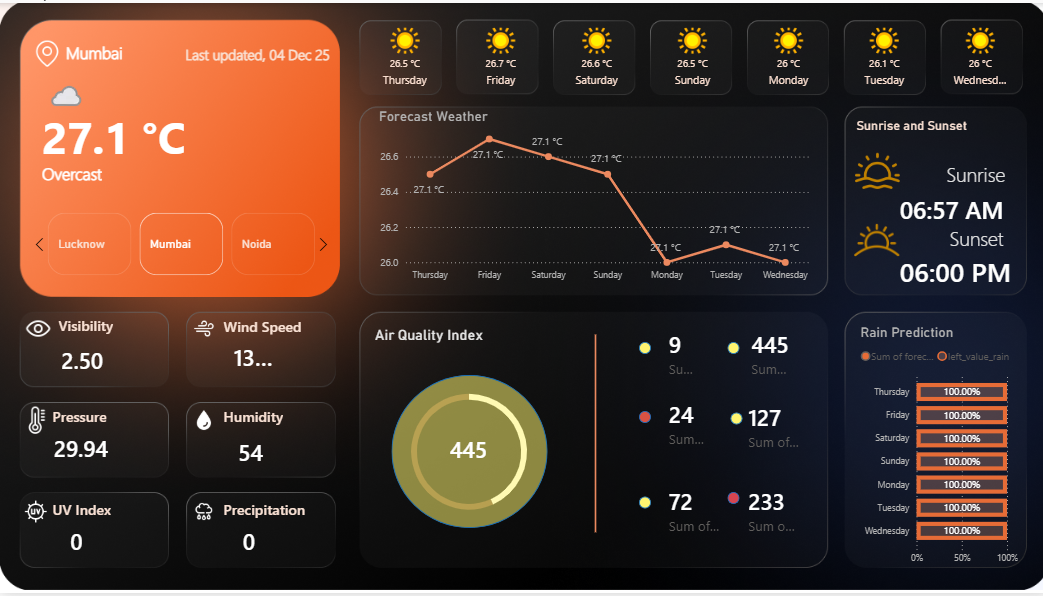

Layout of this report page (visuals, bound fields, positions):
{"tool":"powerbi","page":{"name":"Page 1","canvas":[1280,720],"ordinal":0},"visuals":[{"type":"shape","box":[51,115.3,204.1,94.5],"z":0},{"type":"shape","box":[51,185.2,122.8,47.2],"z":1000},{"type":"shape","box":[81.3,35.9,122.8,47.2],"z":2000},{"type":"shape","box":[173.9,37.8,228.7,47.2],"z":3000},{"type":"image","box":[32.1,45.4,49.1,32.1],"z":4000},{"type":"cardVisual","fields":{"Data":["Min(current table.current.condition.icon)"]},"box":[49.1,75.6,62.4,77.5],"z":5000},{"type":"image","box":[28.6,378.6,35,36.6],"z":6000},{"type":"image","box":[25.4,493.1,38.2,33.4],"z":7000},{"type":"image","box":[28.6,602.8,28.6,36.6],"z":8000},{"type":"image","box":[237,493.1,25.4,33.4],"z":9000},{"type":"image","box":[237,602.8,25.4,36.6],"z":10000},{"type":"image","box":[237,378.6,25.4,36.6],"z":11000},{"type":"shape","box":[71.6,372.2,79.5,42.9],"z":12000},{"type":"shape","box":[273.6,596.5,114.5,42.9],"z":13000},{"type":"shape","box":[273.6,483.5,79.5,42.9],"z":14000},{"type":"shape","box":[63.6,483.5,79.5,42.9],"z":15000},{"type":"shape","box":[273.6,383.3,114.5,22.3],"z":16000},{"type":"shape","box":[63.6,596.5,79.5,42.9],"z":17000},{"type":"cardVisual","fields":{"Data":["Sum(current table.current.vis_km)"]},"box":[46.5,397.1,136.3,74.8],"z":18000},{"type":"cardVisual","fields":{"Data":["Sum(current table.current.humidity)"]},"box":[261.7,510.7,131.8,73.2],"z":19000},{"type":"cardVisual","fields":{"Data":["Sum(current table.current.pressure_in)"]},"box":[36.6,505.1,132.9,74.8],"z":20000},{"type":"cardVisual","fields":{"Data":["_measures.wind_speed"]},"box":[255.9,393.8,132.9,74.8],"z":21000},{"type":"cardVisual","fields":{"Data":["Sum(current table.current.uv)"]},"box":[57.3,618.7,103.4,74.8],"z":22000},{"type":"cardVisual","fields":{"Data":["Sum(current table.current.precip_in)"]},"box":[267.5,618.1,103,74.8],"z":23000},{"type":"advancedSlicerVisual","fields":{"Values":["forecast_day.day_name"]},"box":[435.3,23.3,820.8,104.7],"z":24000},{"type":"lineChart","title":"Forecast Weather","fields":{"Y":["Sum(forecast_day.forecast.forecastday.day.avgtemp_c)"],"Category":["forecast_day.day_name"]},"box":[457.7,128.3,538.2,220.3],"z":25000},{"type":"shape","box":[1045.1,128.1,210.5,43.9],"z":26000},{"type":"cardVisual","fields":{"Data":["Min(forecast_day.forecast.forecastday.astro.sunset)"]},"box":[1068.9,287.4,210.5,76.9],"z":27000},{"type":"cardVisual","fields":{"Data":["Min(forecast_day.forecast.forecastday.astro.sunrise)"]},"box":[1068.9,212.3,210.5,75],"z":28000},{"type":"shape","box":[1151.3,184.9,78.7,47.6],"z":29000},{"type":"shape","box":[1136.6,265.4,109.8,42.1],"z":30000},{"type":"image","box":[1001.2,252.6,137.3,73.2],"z":31000},{"type":"image","box":[1028.6,177.5,84.2,54.9],"z":32000},{"type":"hundredPercentStackedBarChart","title":"Rain Prediction","fields":{"Y":["Sum(forecast_day.forecast.forecastday.day.daily_will_it_rain)","_measures.left_value_rain"],"Category":["forecast_day.day_name"]},"box":[1045.1,391.7,201.3,302],"z":33000},{"type":"shape","box":[457.6,382.5,157.4,43.9],"z":34000},{"type":"cardVisual","fields":{"Data":["Sum(current table.current.air_quality.co)"]},"box":[887.7,382.5,108,89.7],"z":35000},{"type":"cardVisual","fields":{"Data":["Sum(forecast_day.forecast.forecastday.day.air_quality.no2)"]},"box":[884,472.2,181.2,89.7],"z":36000},{"type":"cardVisual","fields":{"Data":["Sum(current table.current.air_quality.o3)"]},"box":[884,574.7,119,89.7],"z":37000},{"type":"cardVisual","fields":{"Data":["Sum(current table.current.air_quality.pm10)"]},"box":[787,574.7,161.1,89.7],"z":38000},{"type":"cardVisual","fields":{"Data":["Sum(current table.current.air_quality.so2)"]},"box":[787,468.6,108,89.7],"z":39000},{"type":"cardVisual","fields":{"Data":["Sum(current table.current.air_quality.gb-defra-index)"]},"box":[787,382.5,97,89.7],"z":40000},{"type":"shape","box":[779.7,413.7,14.6,14.6],"z":41000},{"type":"shape","box":[779.7,497.8,14.6,14.6],"z":42000},{"type":"shape","box":[891.4,499.7,14.6,14.6],"z":43000},{"type":"shape","box":[887.7,596.7,14.6,14.6],"z":44000},{"type":"advancedSlicerVisual","fields":{"Values":["current table.location.name"]},"box":[32.9,250.8,377,86],"z":45000},{"type":"shape","box":[651.6,404.5,150.1,241.6],"z":47000},{"type":"donutChart","fields":{"Y":["_measures.leftpm","_measures.max"]},"box":[435.6,453.9,272.7,186.7],"z":47001},{"type":"shape","box":[477.7,453.9,190.4,186.7],"z":47002},{"type":"cardVisual","fields":{"Data":["Sum(current table.current.air_quality.co)"]},"box":[519.8,507,131.8,73.2],"z":47003},{"type":"shape","box":[779.7,602.2,14.6,14.6],"z":47004},{"type":"shape","box":[887.7,413.7,14.6,14.6],"z":47005}]}

Visuals, with their boxes in screenshot pixels (x1, y1, x2, y2), scaled from the page's 1280x720 canvas onto the 1043x596 screenshot:
shape: (42,95,208,174)
shape: (42,153,142,192)
shape: (66,30,166,69)
shape: (142,31,328,70)
image: (26,38,66,64)
cardVisual - Min(current table.current.condition.icon): (40,63,91,127)
image: (23,313,52,344)
image: (21,408,52,436)
image: (23,499,47,529)
image: (193,408,214,436)
image: (193,499,214,529)
image: (193,313,214,344)
shape: (58,308,123,344)
shape: (223,494,316,529)
shape: (223,400,288,436)
shape: (52,400,117,436)
shape: (223,317,316,336)
shape: (52,494,117,529)
cardVisual - Sum(current table.current.vis_km): (38,329,149,391)
cardVisual - Sum(current table.current.humidity): (213,423,321,483)
cardVisual - Sum(current table.current.pressure_in): (30,418,138,480)
cardVisual - _measures.wind_speed: (209,326,317,388)
cardVisual - Sum(current table.current.uv): (47,512,131,574)
cardVisual - Sum(current table.current.precip_in): (218,512,302,574)
advancedSlicerVisual - forecast_day.day_name: (355,19,1024,106)
"Forecast Weather" lineChart: (373,106,812,289)
shape: (852,106,1023,142)
cardVisual - Min(forecast_day.forecast.forecastday.astro.sunset): (871,238,1042,302)
cardVisual - Min(forecast_day.forecast.forecastday.astro.sunrise): (871,176,1042,238)
shape: (938,153,1002,192)
shape: (926,220,1016,255)
image: (816,209,928,270)
image: (838,147,907,192)
"Rain Prediction" hundredPercentStackedBarChart: (852,324,1016,574)
shape: (373,317,501,353)
cardVisual - Sum(current table.current.air_quality.co): (723,317,811,391)
cardVisual - Sum(forecast_day.forecast.forecastday.day.air_quality.no2): (720,391,868,465)
cardVisual - Sum(current table.current.air_quality.o3): (720,476,817,550)
cardVisual - Sum(current table.current.air_quality.pm10): (641,476,773,550)
cardVisual - Sum(current table.current.air_quality.so2): (641,388,729,462)
cardVisual - Sum(current table.current.air_quality.gb-defra-index): (641,317,720,391)
shape: (635,342,647,355)
shape: (635,412,647,424)
shape: (726,414,738,426)
shape: (723,494,735,506)
advancedSlicerVisual - current table.location.name: (27,208,334,279)
shape: (531,335,653,535)
donutChart - _measures.leftpm x _measures.max: (355,376,577,530)
shape: (389,376,544,530)
cardVisual - Sum(current table.current.air_quality.co): (424,420,531,480)
shape: (635,498,647,511)
shape: (723,342,735,355)
